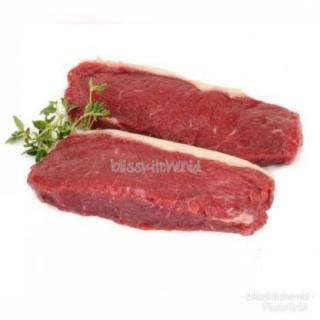Daging Sapi: (29, 131, 276, 237), (68, 60, 305, 167)
